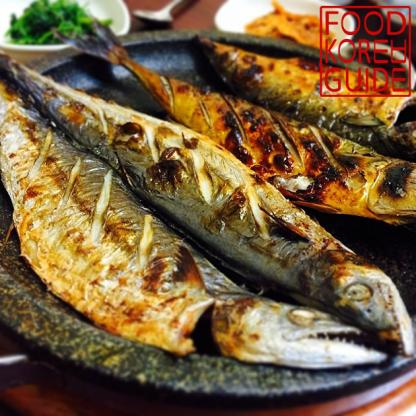Peixe: (0, 34, 416, 368)
